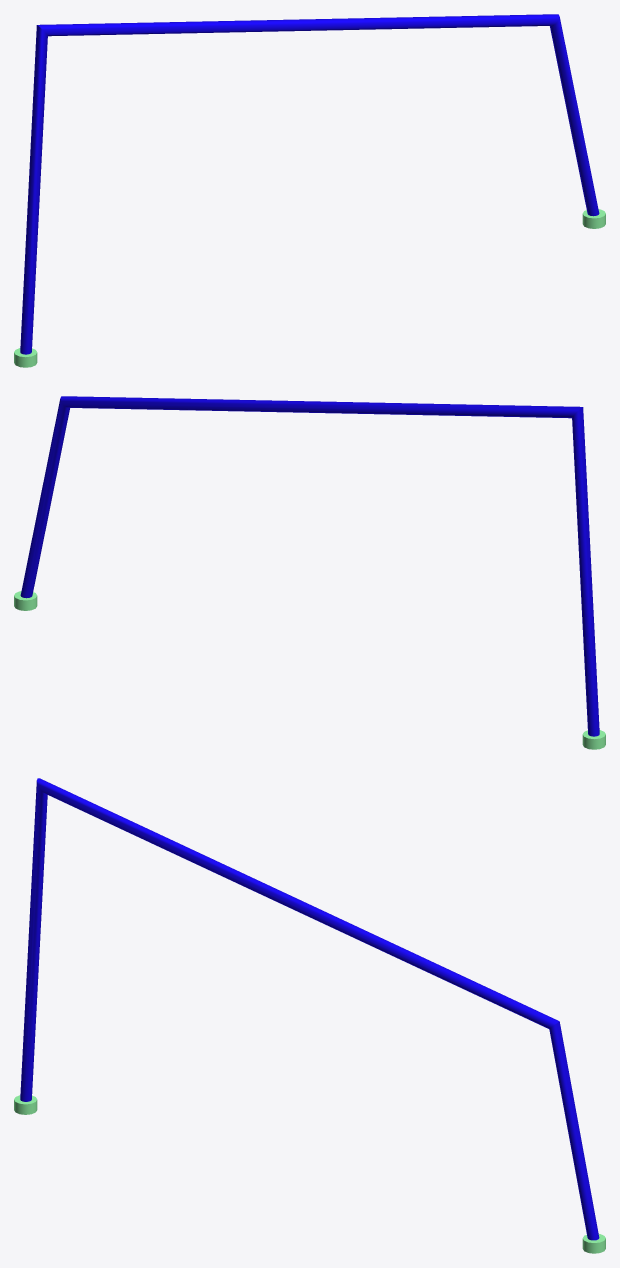
3 views of the same model, one above another, from view 1: azimuth 30°, elevation 25°; view 2: azimuth 150°, elevation 25°; view 3: azimuth 330°, elevation 25° (orthographic).
Visible parts, largest first — view 1: Line001; view 2: Line001; view 3: Line001.
Part boxes in pixels (x1,y1,x2,y2): Line001: (14,14,605,367); Line001: (14,396,605,749); Line001: (14,778,605,1253).
Bounding box in the file's own units: 291 × 159 × 10.
